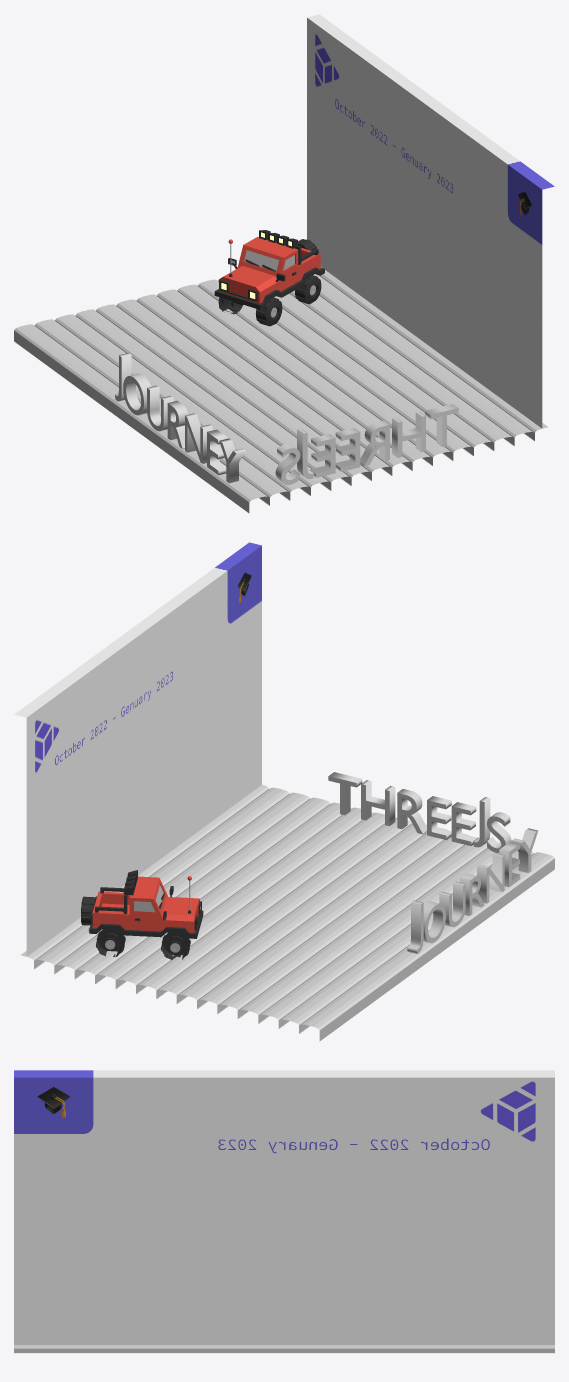
File: threeJsJourneyRoom.glb
The picture shows the model from 3 angles, top to bottom: view 1: azimuth 30°, elevation 25°; view 2: azimuth 150°, elevation 25°; view 3: azimuth 270°, elevation 25°; orthographic projection. The views are drawn at different scales.
Parts seen in each view (by area): view 1: Wall, Ground, BrunoSimonCar, Text.002, Text.003, Text.012, Text.004, Text.009, Text.005, Text.010, Text.007, Text.011 (+3 smaller); view 2: Ground, Wall, BrunoSimonCar, Text.002, Text.003, Text.012, Text.010, Text.005, Text.004, Text.009, Text.007, Text.008 (+4 smaller); view 3: Wall, Ground.
Part boxes in pixels (x1,y1,x2,y2): Wall: [307, 14, 554, 428]; Ground: [14, 267, 548, 513]; BrunoSimonCar: [214, 230, 324, 326]; Text.002: [392, 411, 425, 457]; Text.003: [360, 420, 389, 466]; Text.012: [185, 413, 212, 463]; Text.004: [335, 428, 360, 471]; Text.009: [123, 373, 151, 415]; Text.005: [310, 434, 335, 477]; Text.010: [147, 385, 173, 431]; Text.007: [275, 444, 300, 484]; Text.011: [167, 400, 188, 448]; Ground: [20, 784, 554, 1041]; Wall: [14, 542, 261, 956]; BrunoSimonCar: [81, 870, 203, 960]; Text.002: [361, 780, 395, 826]; Text.003: [397, 789, 426, 834]; Text.012: [477, 853, 504, 903]; Text.010: [439, 881, 465, 927]; Text.005: [451, 802, 476, 845]; Text.004: [427, 796, 451, 839]; Text.009: [423, 901, 445, 943]; Text.007: [487, 812, 511, 852]; Text.008: [407, 900, 423, 953]; Wall: [14, 1070, 554, 1344]; Ground: [14, 1345, 554, 1353].
Size of the model in its own units: 6 by 4.73 by 8.
7 materials, 1 textured.
